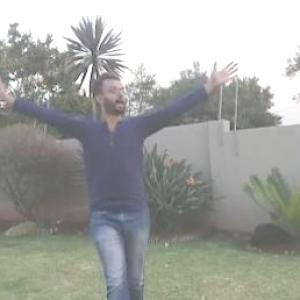takeoff: (1, 50, 237, 299)
